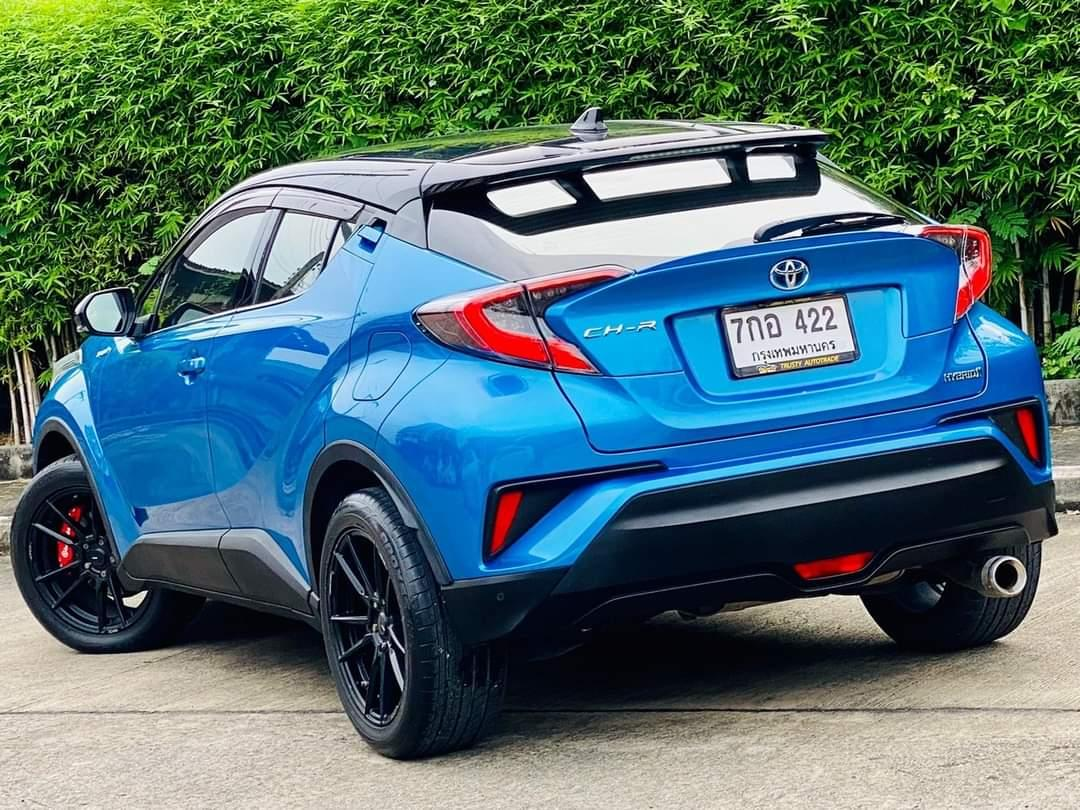license-plate: (716, 293, 862, 376)
